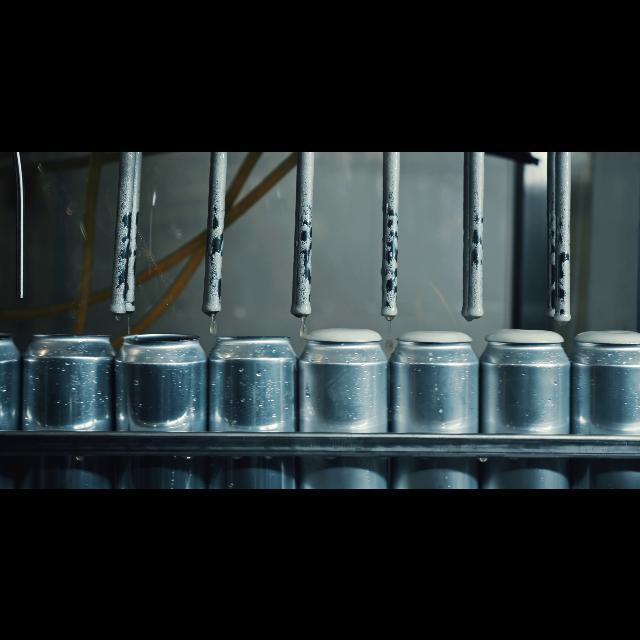empty: (28, 326, 116, 488), (123, 324, 207, 488), (213, 322, 294, 488), (0, 326, 18, 488)
full: (479, 318, 563, 488), (300, 322, 386, 488), (392, 324, 474, 488), (568, 317, 640, 488)
